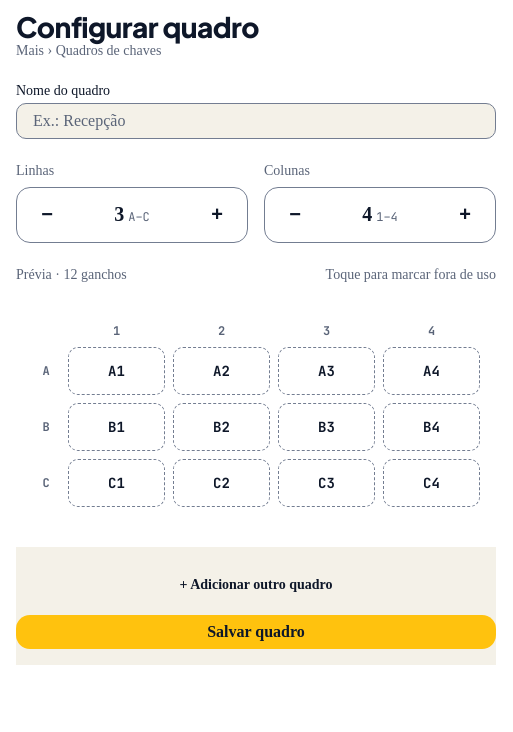
Scenario: QuadroForm (criar) › atualiza a prévia ao mudar linhas e ao marcar fora de uso
Click the button named "Aumentar linhas" at (217, 215), box [195, 193, 239, 237]
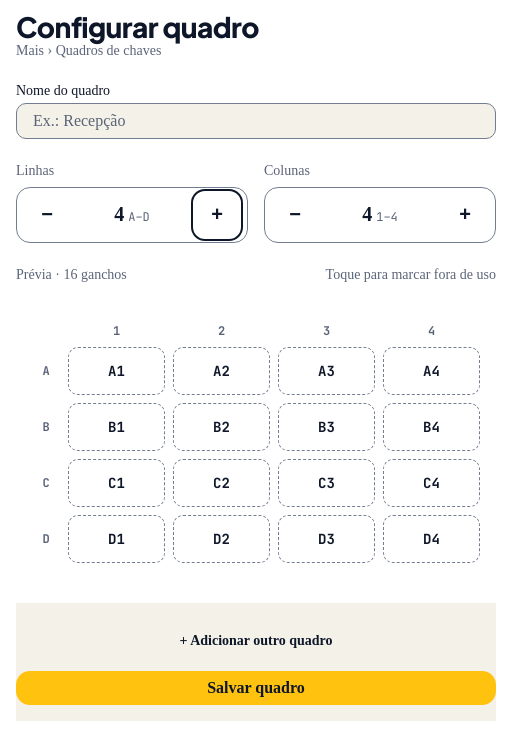
Check: the heading "Prévia · 16 ganchos" is shown, box [16, 267, 127, 283]
Click the button named "D4, em uso" at (432, 539), box [383, 515, 480, 563]
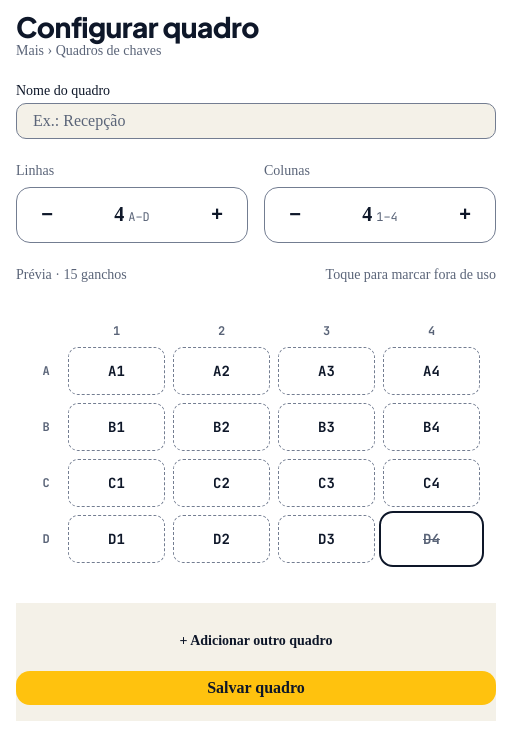
Check: the heading "Prévia · 15 ganchos" is shown, box [16, 267, 127, 283]
Check: the button named "D4, fora de uso" is shown, box [383, 515, 480, 563]
